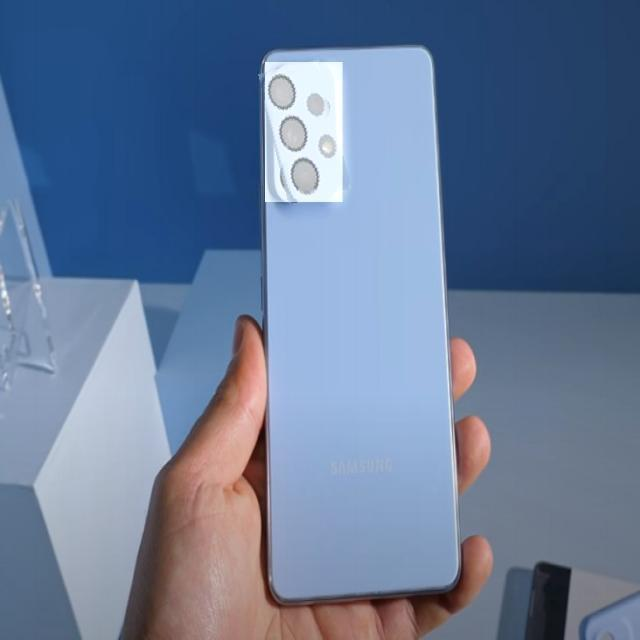phone: (254, 41, 463, 606)
